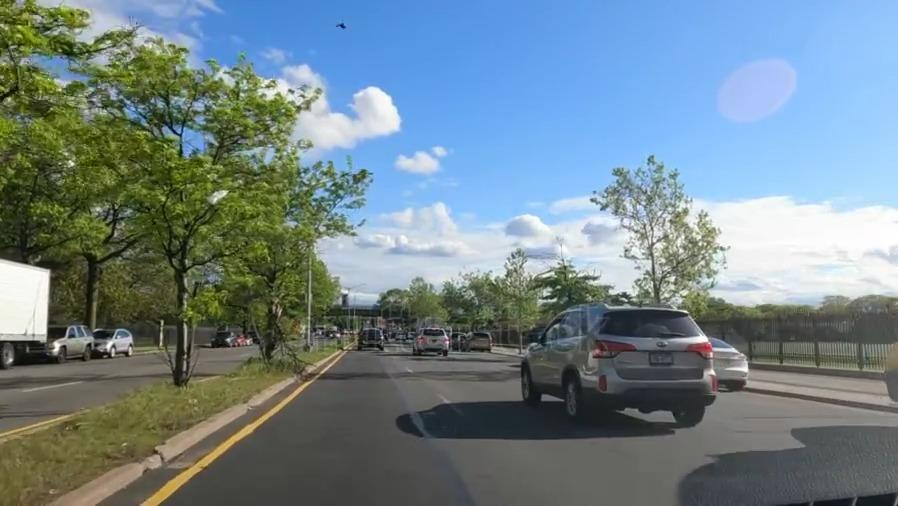bird: (333, 19, 348, 32)
car: (523, 319, 719, 422), (713, 337, 755, 391), (45, 323, 89, 362), (91, 327, 135, 359), (415, 331, 451, 355), (358, 329, 383, 348), (466, 332, 491, 351), (213, 331, 232, 346)
